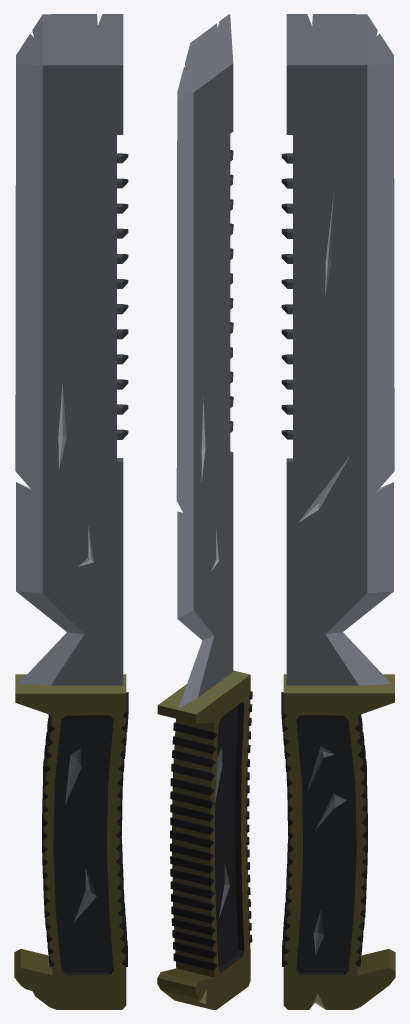
The model's file is machete.glb.
3 views of the same model, side by side, from view 1: azimuth 90°, elevation 25°; view 2: azimuth 150°, elevation 25°; view 3: azimuth 270°, elevation 25° (orthographic).
Parts seen in each view (by area): view 1: SM_Machete; view 2: SM_Machete; view 3: SM_Machete.
Boxes of the visible parts, left/top/right/bottom form: SM_Machete: left=14, top=14, right=128, bottom=1009; SM_Machete: left=157, top=14, right=252, bottom=1009; SM_Machete: left=281, top=14, right=395, bottom=1009.
Size of the model in its own units: 0.0322 by 0.6998 by 0.0735.
1 material, 1 textured.
